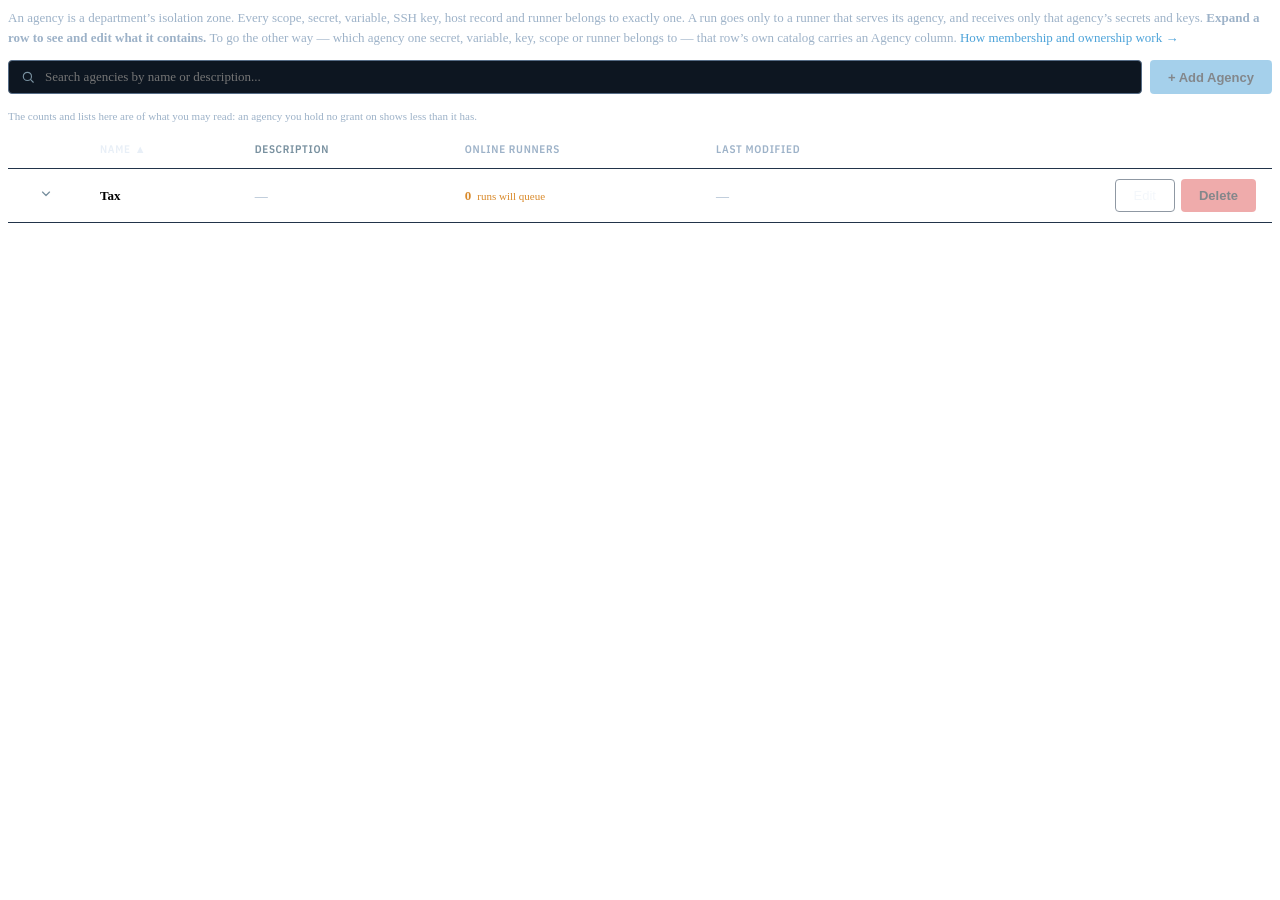
it: an agency's panel: what is edited elsewhere (C7.4) › says a read it may not make is not the reader's, rather than failing
Expected: the text "Tax" is shown, [84,169,239,223]
Click the text "Tax". click: (640, 196)
box: [8,169,1272,223]
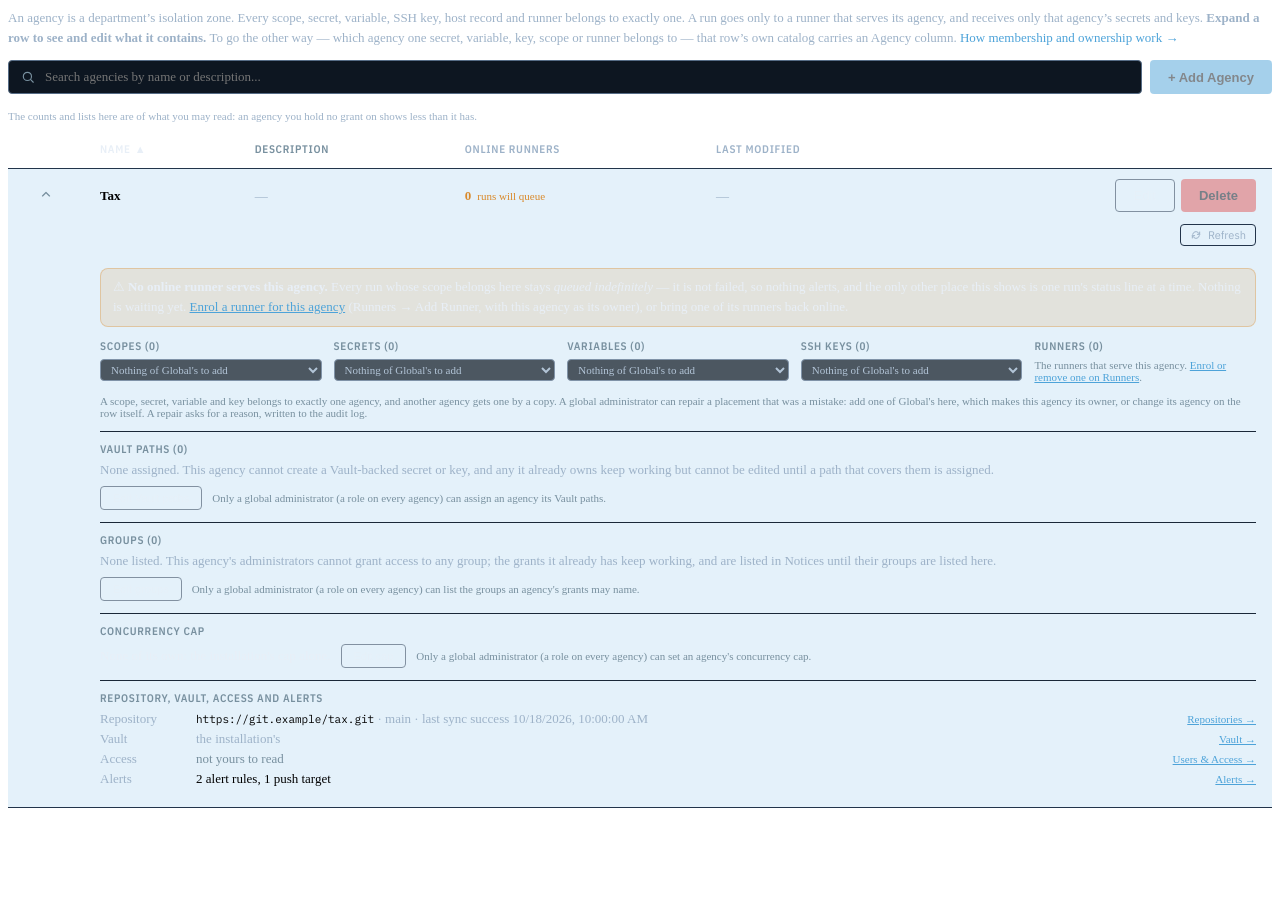
Expected: the text "Repository, Vault, access and alerts" is shown, [100,691,323,705]
Expected: the text "not yours to read" is shown, [196,751,284,766]
Expected: the text "https://git.example/tax.git" is shown, [196,712,374,726]
